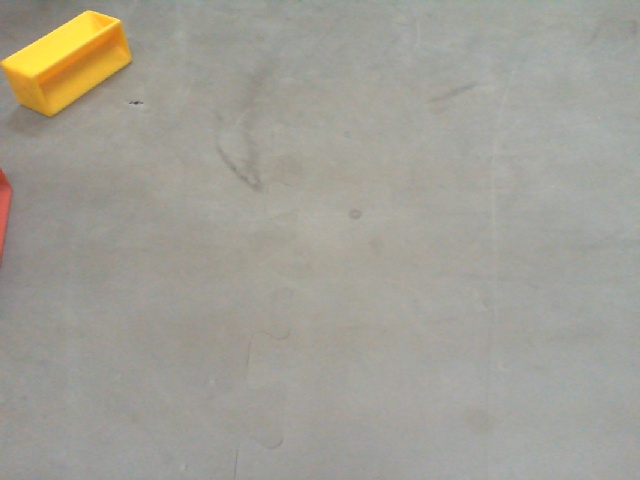YellowSample: (1, 7, 131, 119)
